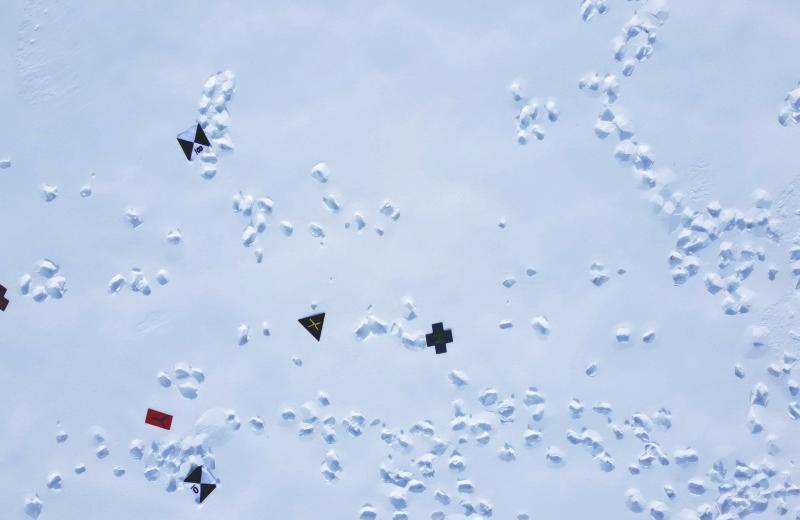Cross: (424, 320, 457, 358), (0, 284, 10, 316)
Rectangle: (144, 405, 174, 432)
Triangle: (296, 309, 328, 346)
